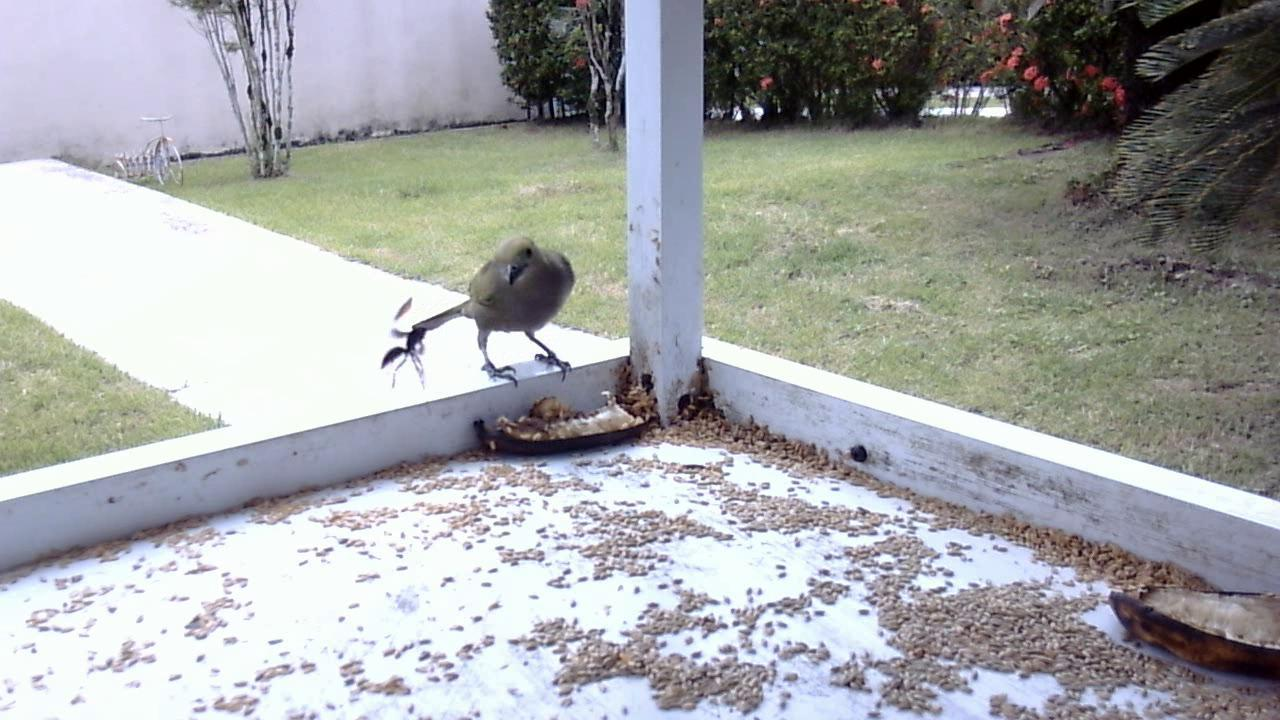sanhaco_do_coqueiro: (378, 228, 587, 401)
